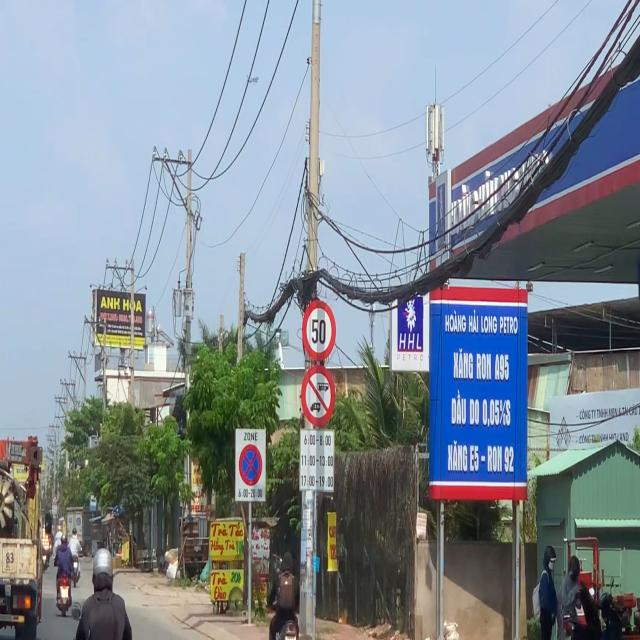Cam con lai: (300, 365, 335, 424)
Cam dung va do: (238, 442, 263, 488)
Toc do toi da: (302, 301, 338, 361)
